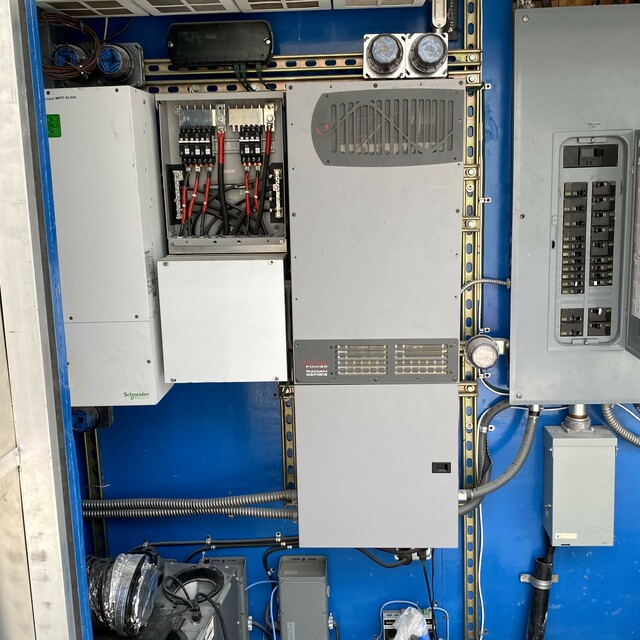inverter: (276, 80, 466, 548)
